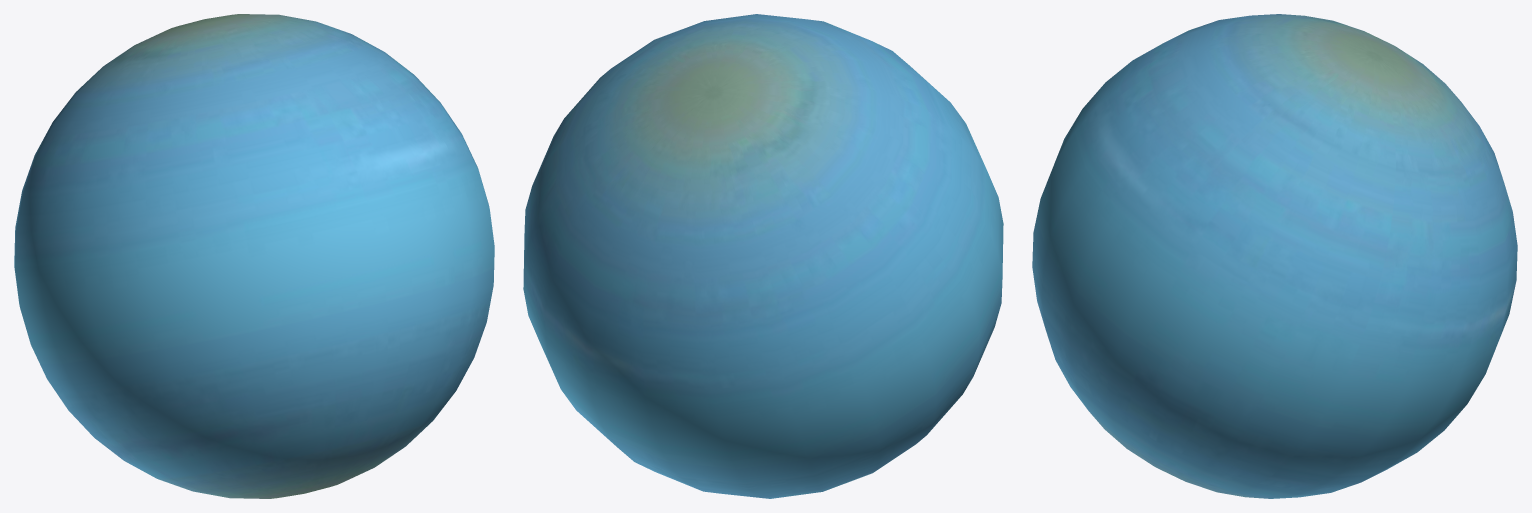
File: Neptunus.fbx
The picture shows the model from 3 angles, left to right: view 1: azimuth 30°, elevation 25°; view 2: azimuth 150°, elevation 25°; view 3: azimuth 270°, elevation 25°; orthographic projection.
Visible parts, largest first — view 1: pSphere7; view 2: pSphere7; view 3: pSphere7.
Part boxes in pixels (x1=…): pSphere7: x1=14, y1=14, x2=494, y2=498; pSphere7: x1=523, y1=14, x2=1003, y2=498; pSphere7: x1=1032, y1=14, x2=1517, y2=498.
Bounding box in the file's own units: 4.37 × 4.37 × 4.37.
Materials: 1 (1 with a texture image).
